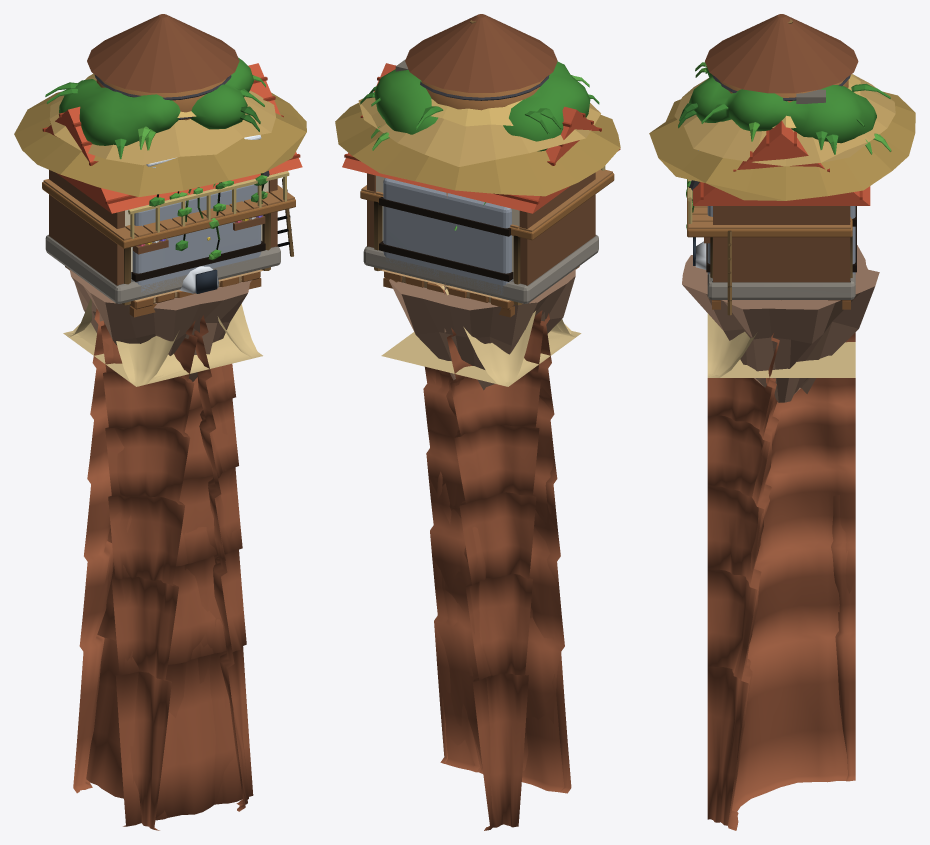
The model's file is terrain.glb.
3 views of the same model, side by side, from view 1: azimuth 30°, elevation 25°; view 2: azimuth 150°, elevation 25°; view 3: azimuth 270°, elevation 25° (orthographic).
Visible parts, largest first — view 1: chasm_concave_0, stiltHut, chasm_saddle_0, cottage, chasm_half_2, waterTower, chasm_half_0, jungleTree, chasm_half_1, crumble, metal, chasm_convex_0 (+9 smaller); view 2: chasm_saddle_0, stiltHut, chasm_half_1, cottage, metal, waterTower, crumble, chasm_convex_0, jungleTree, chasm_half_0, chasm_half_2, bank_full_0 (+4 smaller); view 3: chasm_convex_0, chasm_saddle_0, stiltHut, cottage, crumble, waterTower, jungleTree, bank_full_0, bank_saddle_0, chasm_half_1, chasm_half_2, chasm_half_0 (+1 smaller).
Part boxes in pixels (x1,y1,x2,y2): chasm_concave_0: [101, 270, 260, 830]; stiltHut: [14, 73, 306, 305]; chasm_saddle_0: [73, 290, 248, 811]; cottage: [42, 63, 302, 303]; chasm_half_2: [110, 378, 238, 826]; waterTower: [87, 14, 269, 176]; chasm_half_0: [102, 325, 253, 826]; jungleTree: [58, 57, 265, 159]; chasm_half_1: [103, 337, 235, 826]; crumble: [69, 269, 251, 381]; metal: [131, 179, 265, 293]; chasm_convex_0: [86, 469, 226, 804]; chasm_saddle_0: [392, 273, 543, 830]; stiltHut: [335, 20, 620, 305]; chasm_half_1: [423, 370, 571, 793]; cottage: [342, 59, 620, 303]; metal: [379, 178, 513, 294]; waterTower: [405, 14, 557, 110]; crumble: [389, 269, 575, 390]; chasm_convex_0: [387, 271, 493, 829]; jungleTree: [360, 61, 599, 151]; chasm_half_0: [389, 271, 564, 772]; chasm_half_2: [437, 345, 560, 772]; bank_full_0: [381, 332, 567, 385]; chasm_convex_0: [732, 335, 855, 811]; chasm_saddle_0: [707, 332, 855, 830]; stiltHut: [649, 19, 915, 315]; cottage: [693, 89, 870, 299]; crumble: [682, 245, 879, 402]; waterTower: [689, 14, 858, 191]; jungleTree: [678, 62, 891, 154]; bank_full_0: [709, 342, 855, 377]; bank_saddle_0: [707, 313, 757, 377]; chasm_half_1: [729, 351, 777, 828]; chasm_half_2: [731, 343, 778, 816]; chasm_half_0: [728, 337, 779, 827].
Size of the model in its own units: 1.99 by 5.85 by 1.8.
